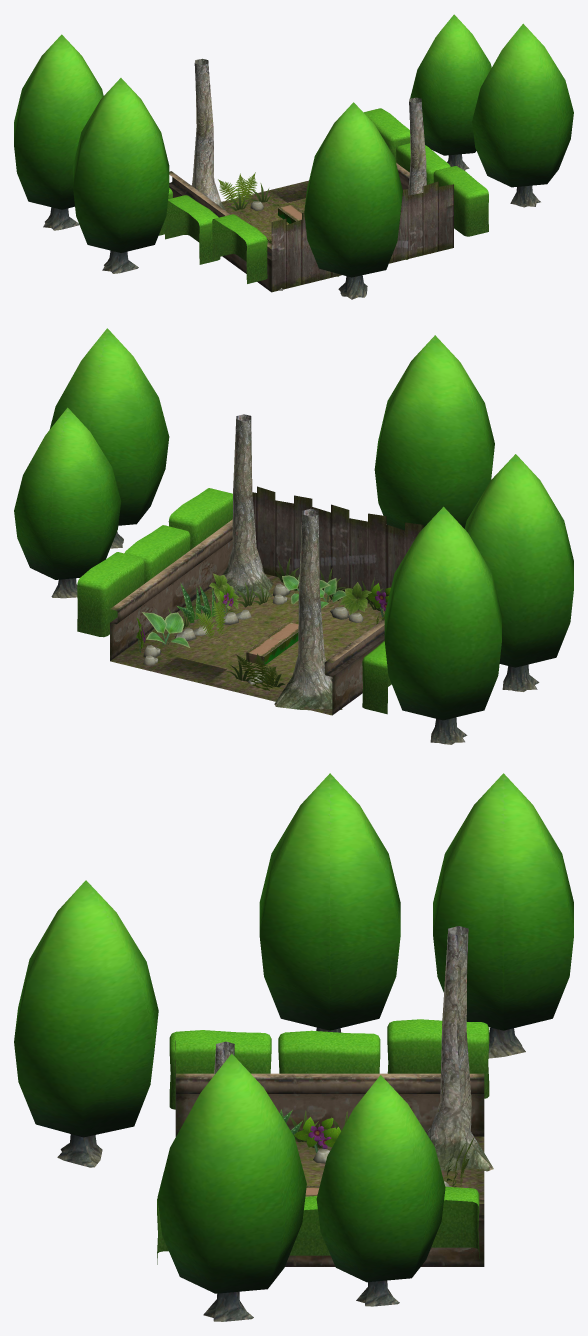
The model's file is Garage2.fbx.
3 views of the same model, one above another, from view 1: azimuth 30°, elevation 25°; view 2: azimuth 150°, elevation 25°; view 3: azimuth 270°, elevation 25° (orthographic). The views are drawn at different scales.
Parts seen in each view (by area): view 1: pine_1, pine, pine_2, pine_4, garage_1, pine_3, tree, bush_2, bush_3, bush, tree_1, bush_1 (+2 smaller); view 2: garage_1, pine_4, pine, pine_1, pine_3, pine_2, tree, tree_1, bush_1, bush_3, bush_5, bush_4 (+5 smaller); view 3: pine, pine_1, pine_4, pine_2, pine_3, garage_1, tree, bush, bush_4, bush_2, bush_1, bush_5 (+1 smaller).
Part boxes in pixels (x1=…): pine_1: x1=73, y1=78, x2=169, y2=273; pine: x1=304, y1=102, x2=402, y2=299; pine_2: x1=472, y1=23, x2=573, y2=207; pine_4: x1=14, y1=34, x2=103, y2=230; garage_1: x1=169, y1=163, x2=453, y2=292; pine_3: x1=410, y1=14, x2=491, y2=170; tree: x1=191, y1=58, x2=225, y2=210; bush_2: x1=212, y1=214, x2=267, y2=283; bush_3: x1=433, y1=166, x2=488, y2=236; bush: x1=165, y1=195, x2=220, y2=264; tree_1: x1=408, y1=97, x2=430, y2=253; bush_1: x1=363, y1=108, x2=410, y2=162; garage_1: x1=110, y1=486, x2=423, y2=715; pine_4: x1=384, y1=506, x2=501, y2=744; pine: x1=374, y1=335, x2=494, y2=530; pine_1: x1=464, y1=454, x2=573, y2=691; pine_3: x1=14, y1=407, x2=121, y2=598; pine_2: x1=49, y1=328, x2=169, y2=548; tree: x1=274, y1=508, x2=342, y2=710; tree_1: x1=212, y1=414, x2=273, y2=597; bush_1: x1=77, y1=552, x2=144, y2=637; bush_3: x1=168, y1=488, x2=232, y2=549; bush_5: x1=124, y1=525, x2=190, y2=583; bush_4: x1=362, y1=641, x2=391, y2=714; pine: x1=14, y1=880, x2=158, y2=1167; pine_1: x1=259, y1=773, x2=400, y2=1032; pine_4: x1=433, y1=773, x2=573, y2=1058; pine_2: x1=157, y1=1053, x2=306, y2=1321; pine_3: x1=316, y1=1075, x2=445, y2=1306; garage_1: x1=175, y1=1041, x2=484, y2=1266; tree: x1=426, y1=926, x2=493, y2=1171; bush: x1=278, y1=1030, x2=380, y2=1073; bush_4: x1=387, y1=1019, x2=489, y2=1098; bush_2: x1=169, y1=1030, x2=271, y2=1109; bush_1: x1=431, y1=1186, x2=479, y2=1258; bush_5: x1=289, y1=1196, x2=330, y2=1255.
Bounding box in the file's own units: 10982 × 4732 × 7912.
